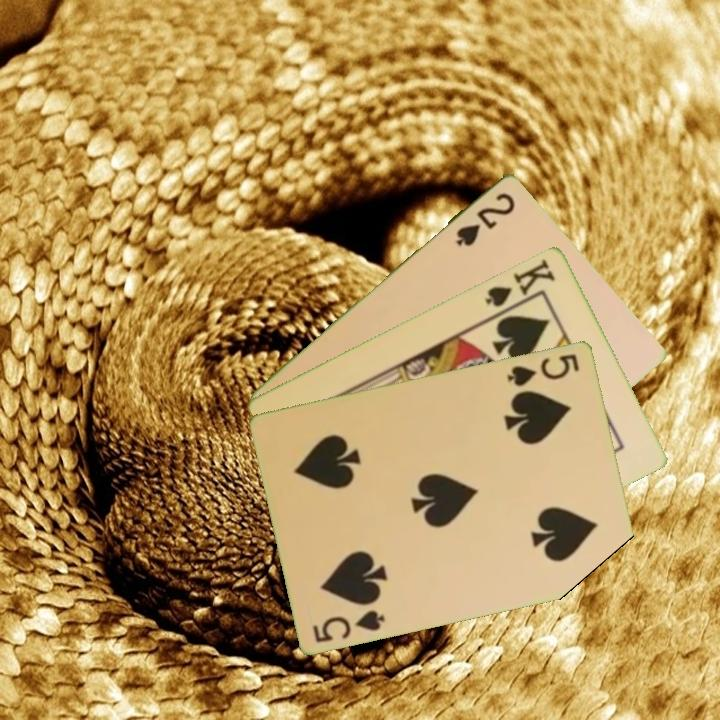2s: (452, 188, 518, 249)
5s: (504, 349, 583, 389), (309, 606, 388, 645)
Ks: (482, 255, 559, 317)
